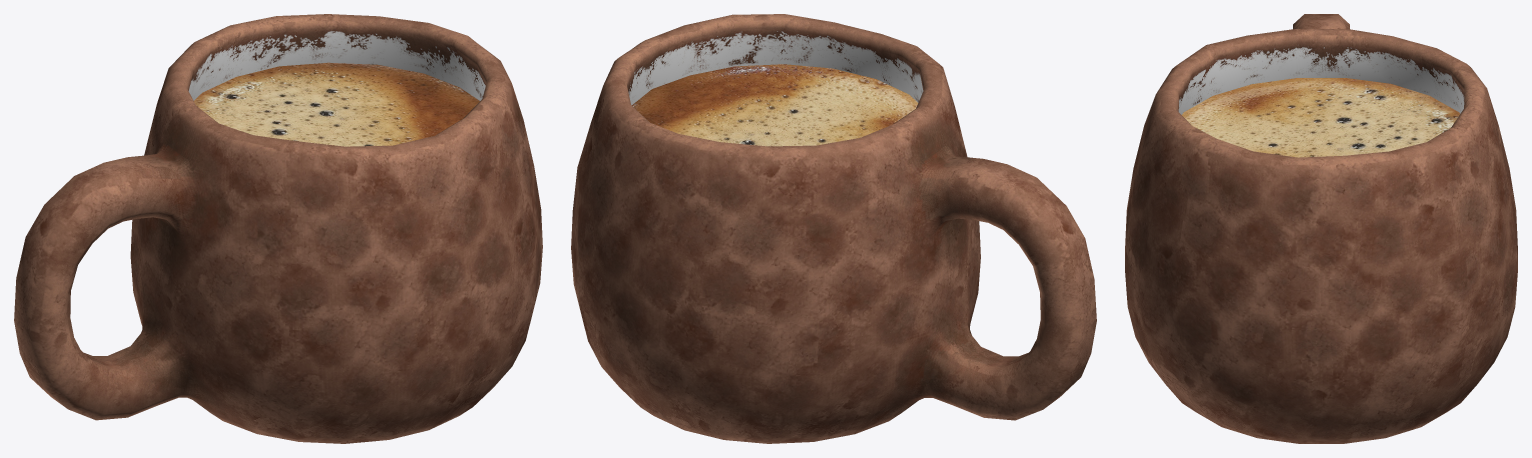
The model's file is cup_of_coffee.glb.
3 renders of one model, left to right at view 1: azimuth 30°, elevation 25°; view 2: azimuth 150°, elevation 25°; view 3: azimuth 270°, elevation 25°, orthographic. The views are drawn at different scales.
Parts seen in each view (by area): view 1: Object_2; view 2: Object_2; view 3: Object_2.
Part boxes in pixels (bbox=[...]): Object_2: bbox=[14, 14, 542, 443]; Object_2: bbox=[571, 14, 1096, 443]; Object_2: bbox=[1125, 14, 1517, 443].
Bounding box in the file's own units: 1288 × 781 × 927.
1 material, 1 textured.
